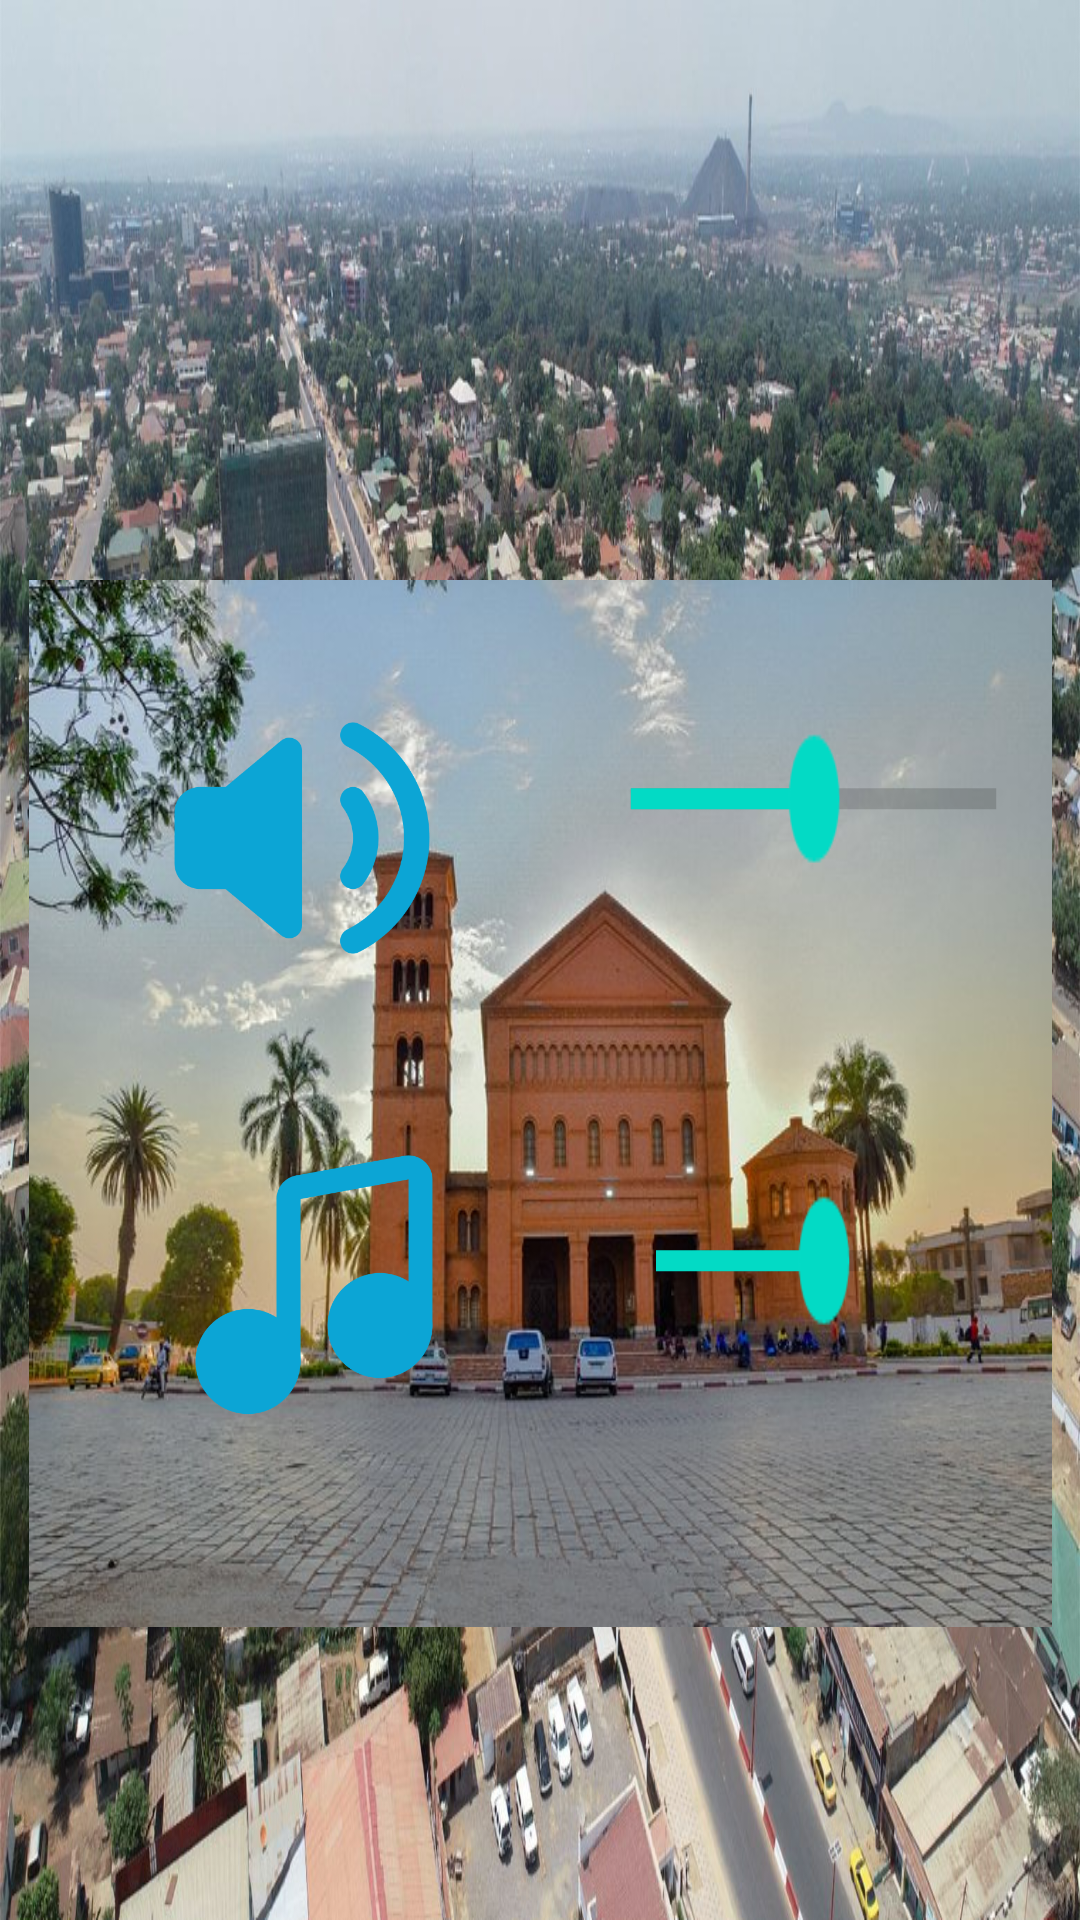

Icon click points for this 1080*1920 phone screenshot, format point (x, y):
music: point (312, 1285)
volume: point (302, 838)
